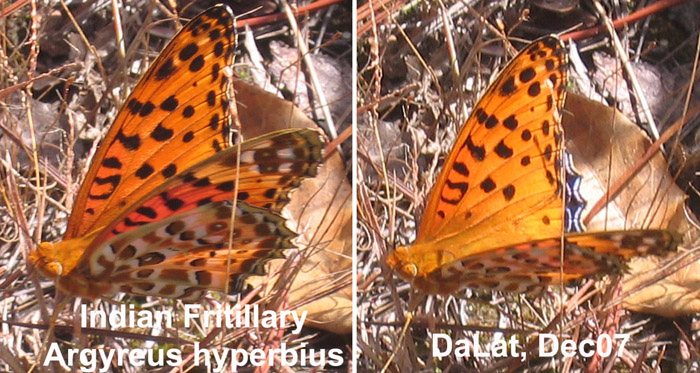Argyreus hyperbius: (8, 4, 321, 371), (386, 34, 680, 367)
butterfly: (10, 6, 323, 373), (388, 36, 682, 369)
